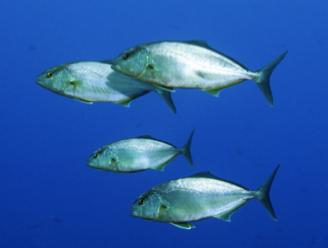Carangidae -Jacks-: (111, 34, 292, 109), (124, 158, 286, 235), (34, 52, 179, 118), (83, 123, 204, 171)
